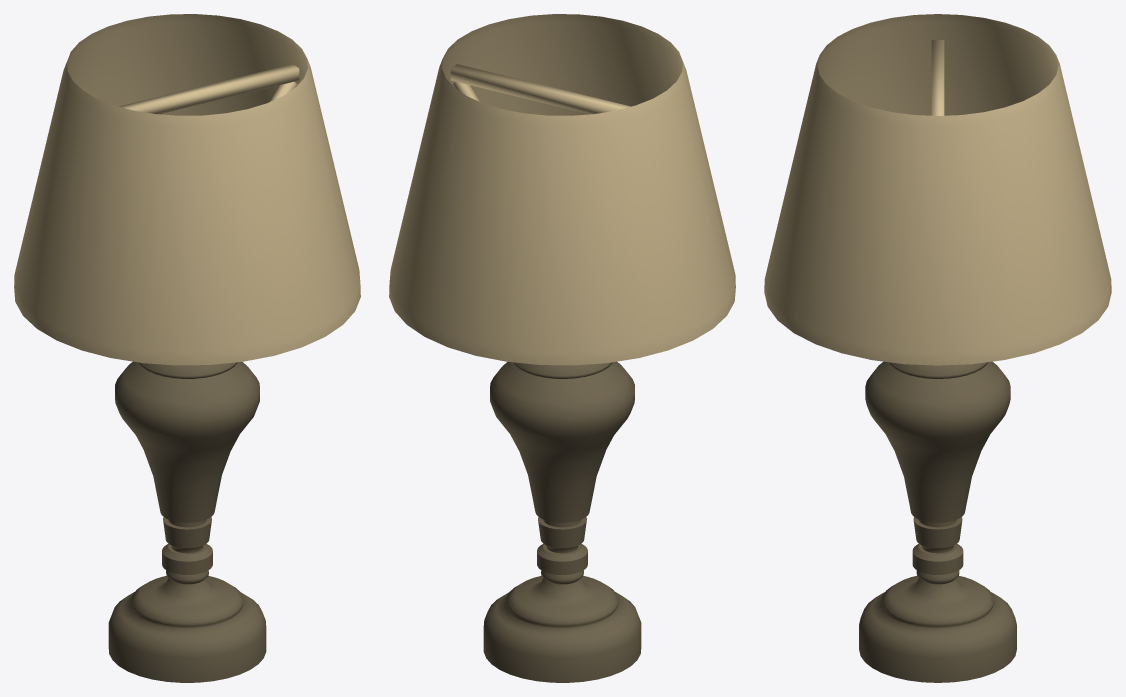
Rendered from DeskLamp.fbx.
3 renders of one model, left to right at view 1: azimuth 30°, elevation 25°; view 2: azimuth 150°, elevation 25°; view 3: azimuth 270°, elevation 25°, orthographic.
Parts seen in each view (by area): view 1: DeskLamp; view 2: DeskLamp; view 3: DeskLamp.
Boxes of the visible parts, x1,y1,x2,y2 form: DeskLamp: [14, 14, 360, 682]; DeskLamp: [389, 14, 735, 682]; DeskLamp: [764, 14, 1111, 682].
Size of the model in its own units: 39.25 by 72.87 by 39.25.
